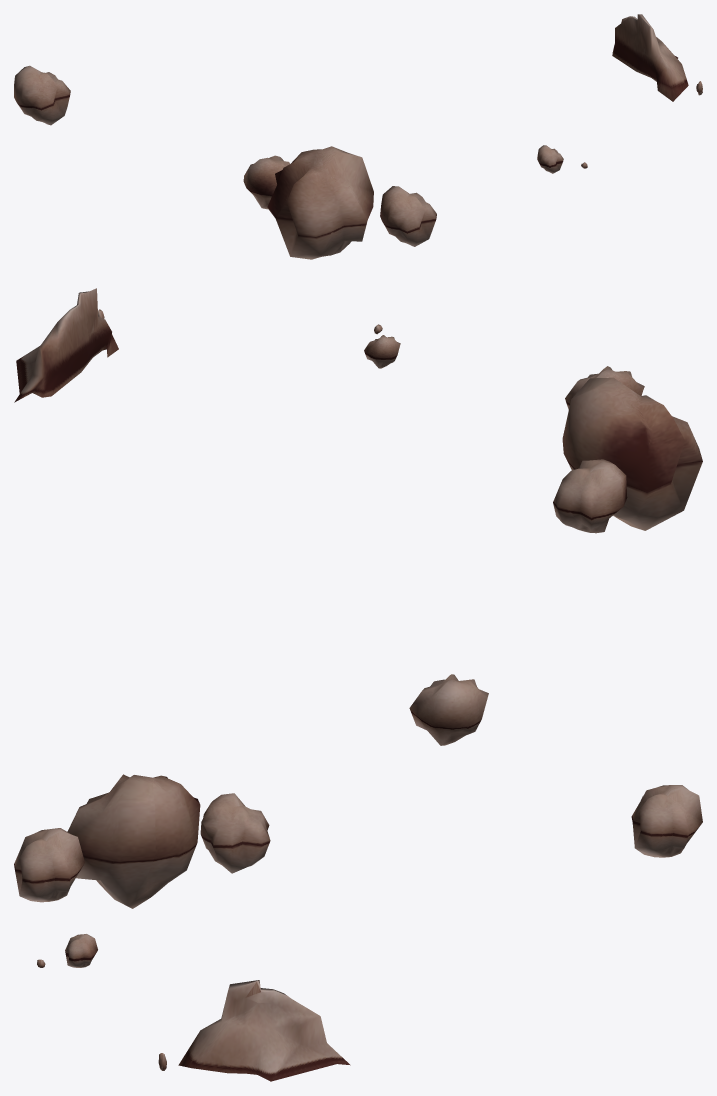
The model's file is Cailloux.FBX.
3 views of the same model, one above another, from view 1: azimuth 30°, elevation 25°; view 2: azimuth 150°, elevation 25°; view 3: azimuth 270°, elevation 25° (orthographic). The views are drawn at different scales.
Parts seen in each view (by area): view 1: Rock005, BigRock, Rock004, Rock006, Rock009, Rock1; view 2: Rock005, BigRock, Rock009, Rock006, Rock1, Rock004; view 3: Rock005, BigRock, Rock006, Rock004, Rock009, Rock1.
Part boxes in pixels (bbox=[...]): Rock005: bbox=[267, 146, 373, 259]; BigRock: bbox=[612, 14, 688, 101]; Rock004: bbox=[380, 186, 436, 246]; Rock006: bbox=[14, 65, 70, 125]; Rock009: bbox=[243, 155, 289, 209]; Rock1: bbox=[537, 145, 563, 173]; Rock005: bbox=[562, 377, 702, 530]; BigRock: bbox=[14, 288, 118, 402]; Rock009: bbox=[553, 459, 627, 533]; Rock006: bbox=[409, 674, 488, 745]; Rock1: bbox=[364, 335, 400, 368]; Rock004: bbox=[565, 366, 644, 409]; Rock005: bbox=[67, 774, 200, 908]; BigRock: bbox=[178, 980, 350, 1081]; Rock006: bbox=[631, 785, 702, 857]; Rock004: bbox=[14, 828, 84, 902]; Rock009: bbox=[200, 793, 270, 873]; Rock1: bbox=[65, 934, 97, 967].
Bounding box in the file's own units: 27.28 × 25.18 × 6.14.
Materials: 6 (6 with a texture image).
